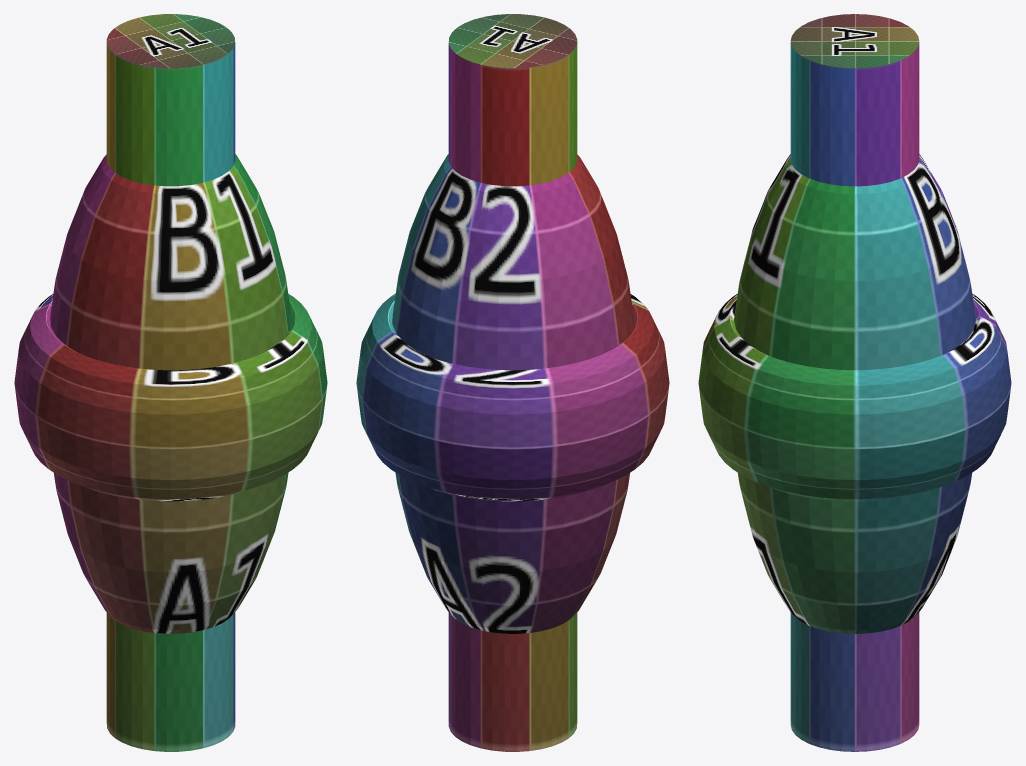
The model's file is mars_frog.glb.
3 views of the same model, side by side, from view 1: azimuth 30°, elevation 25°; view 2: azimuth 150°, elevation 25°; view 3: azimuth 270°, elevation 25° (orthographic).
Visible parts, largest first — view 1: MarsFrog; view 2: MarsFrog; view 3: MarsFrog.
Boxes of the visible parts, x1=… form: MarsFrog: x1=14, y1=14, x2=327, y2=751; MarsFrog: x1=356, y1=14, x2=669, y2=751; MarsFrog: x1=698, y1=14, x2=1011, y2=751.
Size of the model in its own units: 0.83 by 2 by 0.83.
1 material, 1 textured.
